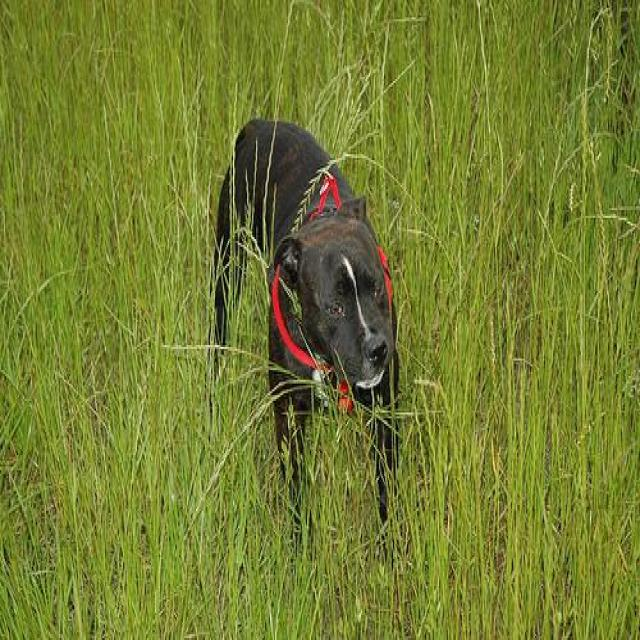staffordshire_bullterrier: (212, 116, 400, 544)
